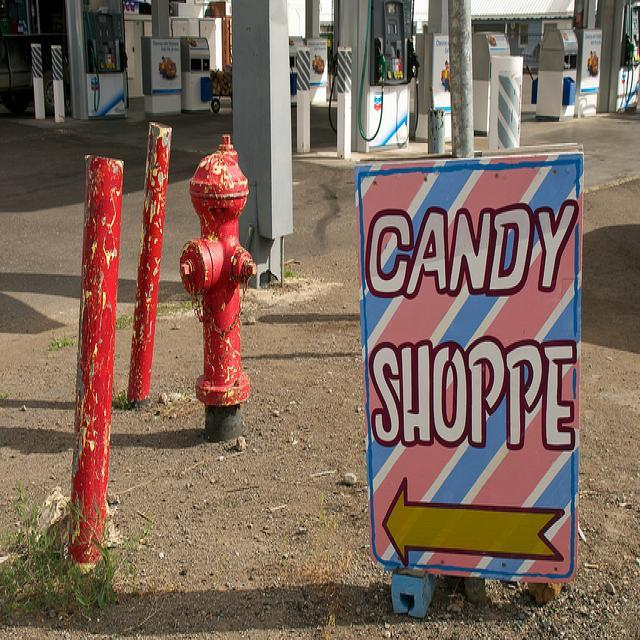fire_hydrant: (175, 130, 258, 442)
